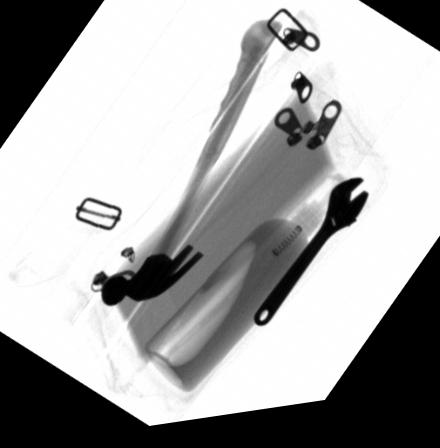Hammer: (98, 28, 282, 308)
Wrench: (251, 186, 368, 335)
